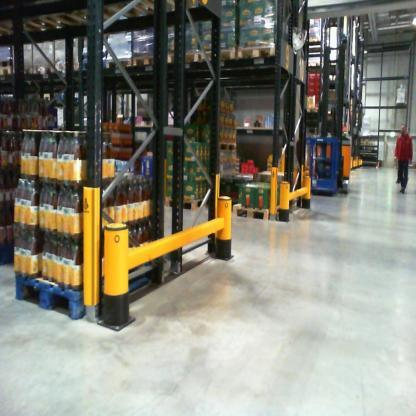pallets: (13, 272, 85, 320), (153, 186, 212, 214), (231, 202, 290, 225)
